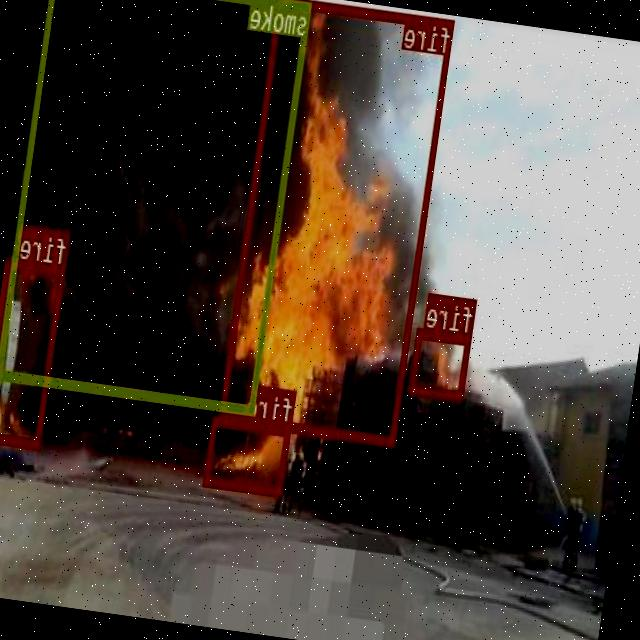fire: (219, 0, 455, 445), (0, 257, 66, 446), (204, 414, 293, 494), (410, 327, 473, 400)
smoke: (0, 0, 313, 413)
